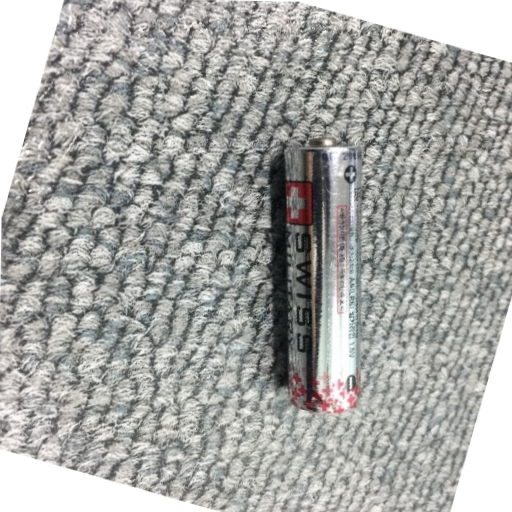Battery_0: (271, 133, 372, 418)
